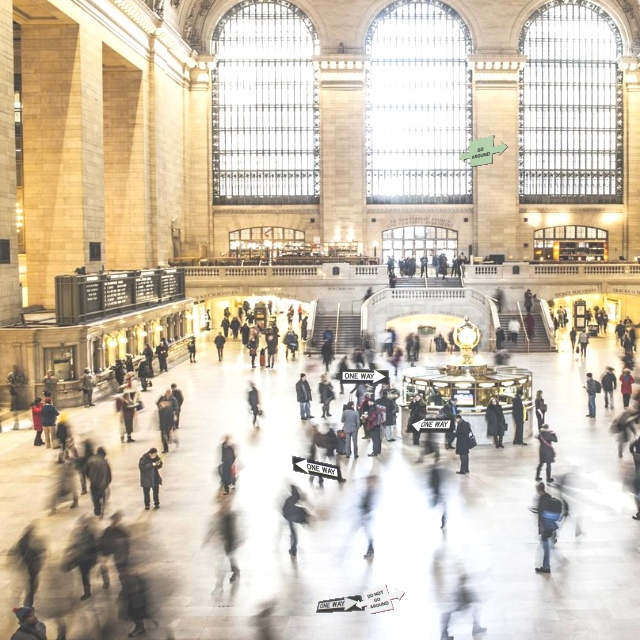DO_NOT_GO_AROUND: (355, 583, 405, 614)
GO_AROUND: (458, 134, 508, 167)
ONE_WAY_ left: (291, 455, 341, 481), (404, 417, 454, 433)
ONE_WAY_ right: (315, 594, 365, 613), (339, 368, 389, 384)
